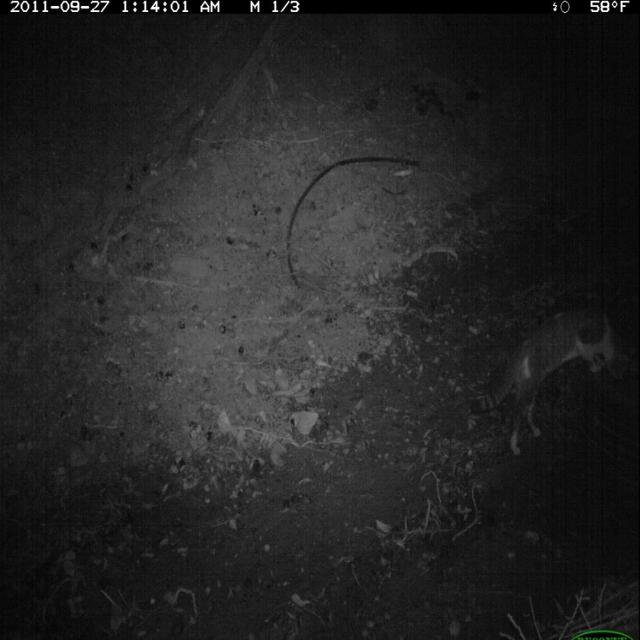cat: (470, 297, 636, 467)
